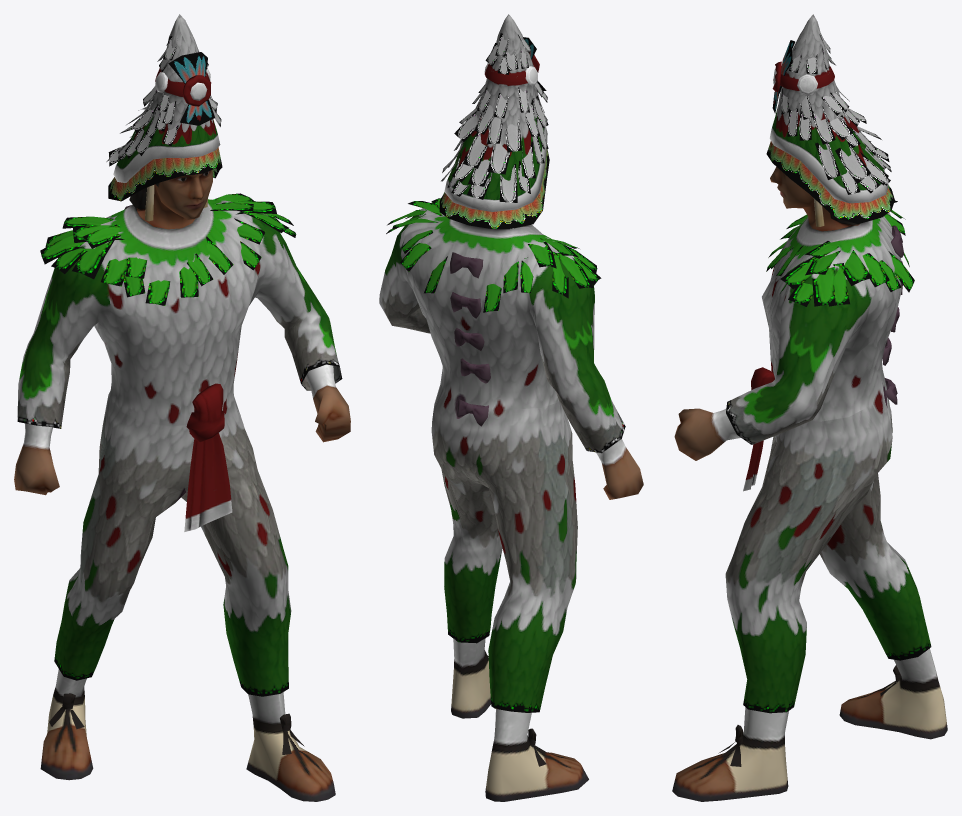
File: body-heavywarhutsoldiers.glb
3 views of the same model, side by side, from view 1: azimuth 30°, elevation 25°; view 2: azimuth 150°, elevation 25°; view 3: azimuth 270°, elevation 25° (orthographic). The views are drawn at different scales.
Bounding box in the file's own units: 0.9355 × 2.36 × 0.7925.
2 materials, 2 textured.
